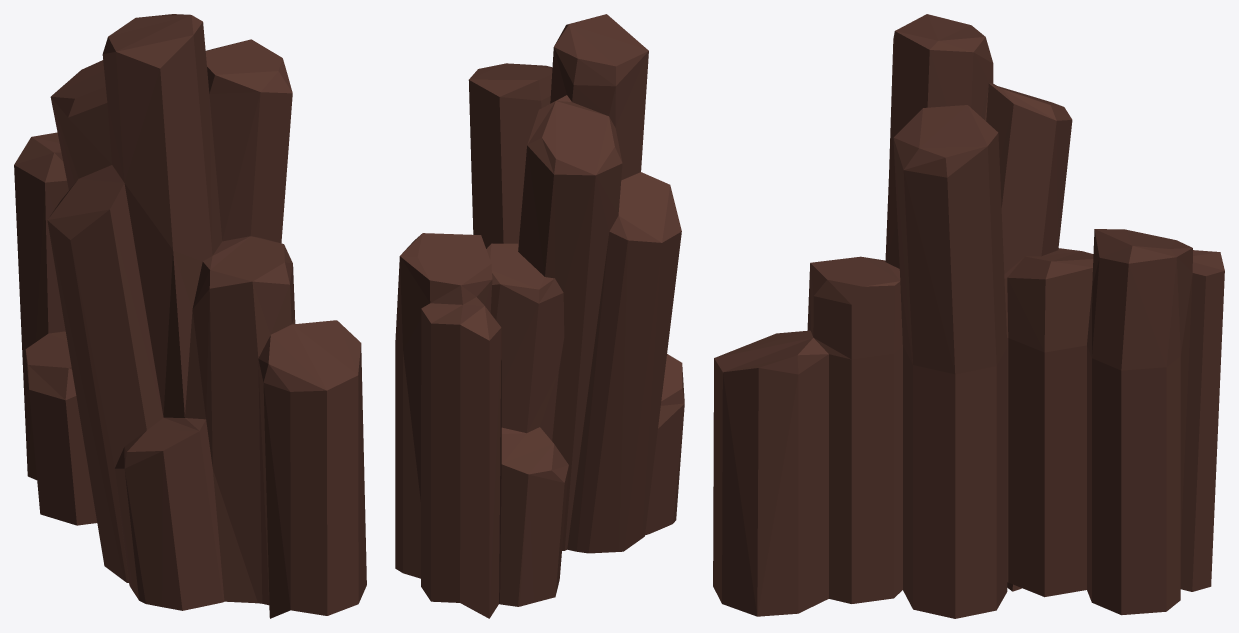
Rendered from BoomRock.fbx.
3 views of the same model, side by side, from view 1: azimuth 30°, elevation 25°; view 2: azimuth 150°, elevation 25°; view 3: azimuth 270°, elevation 25° (orthographic). The views are drawn at different scales.
Parts seen in each view (by area): view 1: SM_Waterfall_Rocks_Small_01.mo; view 2: SM_Waterfall_Rocks_Small_01.mo; view 3: SM_Waterfall_Rocks_Small_01.mo.
Boxes of the visible parts, x1,y1,x2,y2 form: SM_Waterfall_Rocks_Small_01.mo: [14, 14, 366, 618]; SM_Waterfall_Rocks_Small_01.mo: [395, 14, 684, 618]; SM_Waterfall_Rocks_Small_01.mo: [713, 14, 1224, 618].
Size of the model in its own units: 152 by 355 by 298.
Materials: 1 (1 with a texture image).
